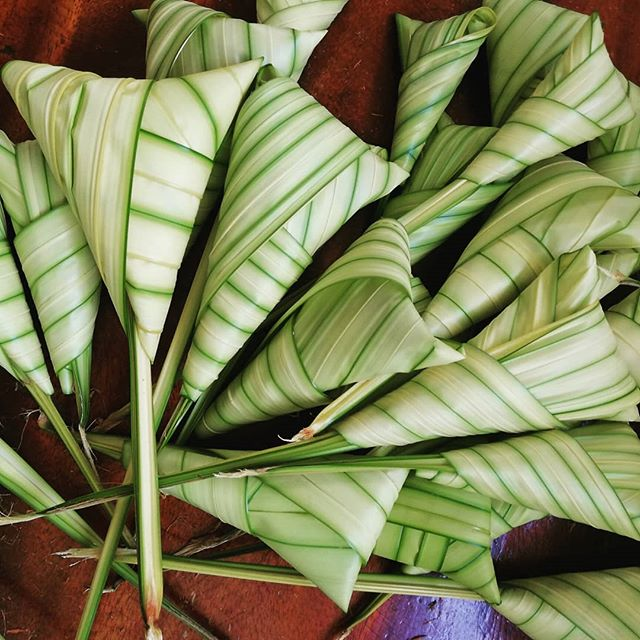kanomtom: (6, 47, 264, 444), (221, 201, 473, 430)
